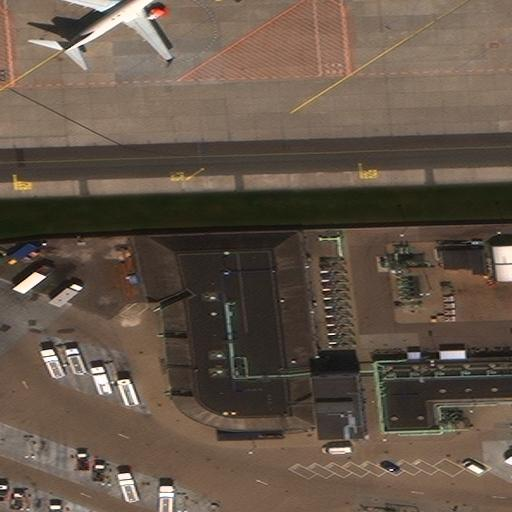Medium Civil Transport: (35, 0, 178, 58)
